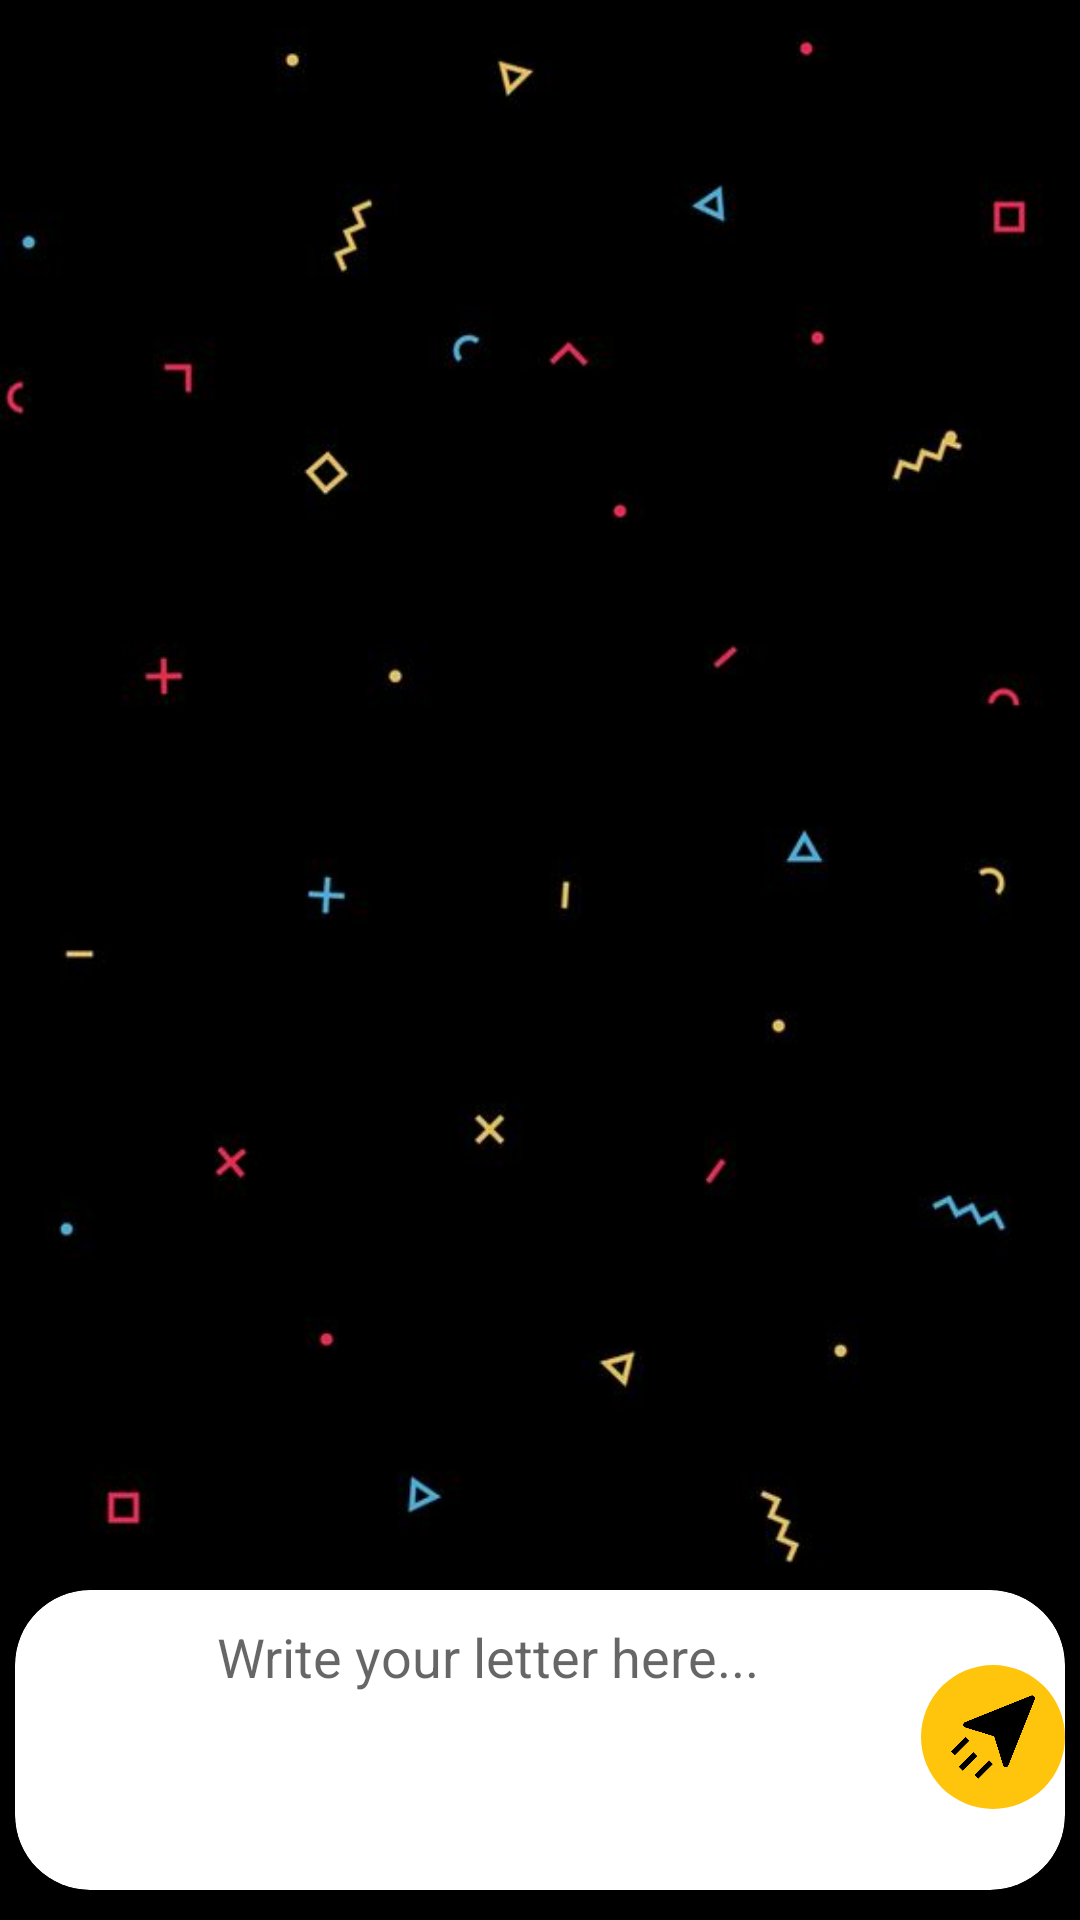

Icon click points for this 1080 x 1920 phone screenshot, format (x,y):
send: (993,1737)
